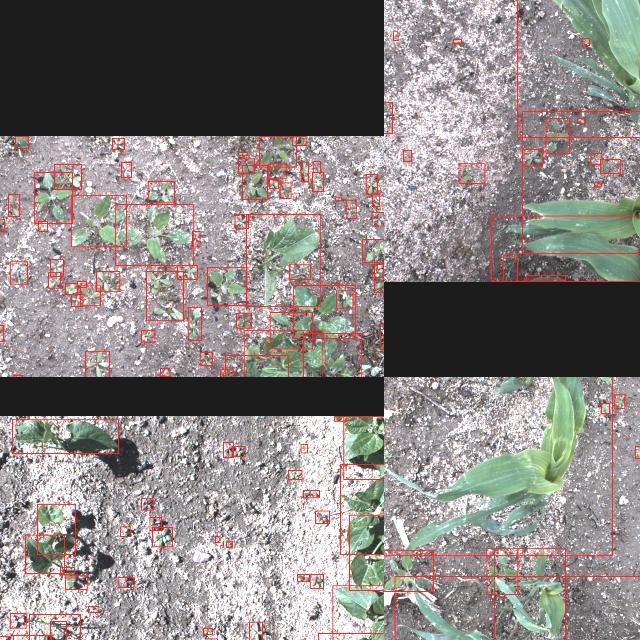crop: (384, 377, 613, 554), (521, 110, 640, 253), (517, 0, 640, 137), (394, 575, 640, 640), (490, 215, 640, 281), (246, 214, 320, 306), (494, 548, 565, 640), (340, 464, 384, 554), (243, 330, 322, 377), (13, 419, 119, 453), (332, 585, 384, 640), (349, 514, 384, 590), (344, 415, 384, 478), (37, 503, 75, 553), (26, 534, 64, 574), (526, 275, 566, 281), (16, 135, 28, 147)
weed: (116, 203, 192, 264), (294, 284, 354, 338), (72, 194, 126, 246), (303, 333, 361, 377), (384, 549, 432, 591), (35, 172, 73, 222), (146, 270, 184, 320), (207, 267, 247, 305), (270, 312, 312, 348), (487, 548, 518, 594), (225, 355, 288, 377), (29, 613, 80, 640), (260, 136, 296, 166), (242, 164, 268, 200), (546, 118, 570, 152), (54, 164, 82, 188), (85, 350, 109, 377), (148, 180, 175, 202), (459, 163, 485, 183), (362, 238, 384, 261), (96, 271, 120, 291), (188, 306, 202, 339), (502, 255, 518, 281), (80, 285, 100, 305), (152, 526, 172, 546), (10, 261, 28, 283), (523, 148, 543, 166), (336, 290, 354, 308), (49, 621, 66, 640), (290, 263, 310, 279), (600, 158, 620, 174), (65, 575, 87, 589), (268, 162, 286, 178), (177, 265, 197, 279), (374, 264, 384, 292), (8, 194, 20, 216), (236, 312, 252, 328), (10, 612, 26, 628), (50, 258, 64, 276), (384, 101, 392, 132), (249, 621, 262, 640), (366, 173, 378, 193), (238, 158, 254, 172), (312, 172, 324, 190), (235, 213, 249, 227), (310, 574, 324, 588), (48, 272, 60, 288), (371, 211, 384, 225), (346, 199, 356, 217), (141, 330, 155, 342), (200, 351, 212, 365), (150, 516, 162, 530), (315, 510, 329, 522), (301, 161, 309, 181), (280, 182, 290, 198), (118, 577, 134, 587), (113, 137, 125, 149), (590, 152, 602, 164), (121, 162, 131, 176), (223, 442, 233, 456), (288, 469, 302, 479), (615, 393, 625, 407), (372, 264, 383, 276), (141, 498, 153, 509), (192, 230, 200, 246), (66, 282, 76, 294), (72, 294, 82, 306), (232, 446, 244, 456), (220, 369, 234, 377), (292, 136, 306, 144), (60, 566, 74, 574), (303, 489, 319, 496), (380, 323, 384, 349), (372, 192, 380, 205), (38, 220, 48, 230), (121, 526, 131, 536), (297, 573, 309, 581), (160, 368, 170, 376), (270, 178, 278, 188), (403, 150, 411, 160), (601, 402, 609, 412), (314, 160, 320, 172), (300, 443, 308, 452), (77, 281, 87, 287), (89, 606, 99, 612), (635, 445, 640, 457), (582, 37, 590, 44), (0, 217, 4, 230), (204, 628, 212, 634), (334, 416, 346, 420), (0, 635, 9, 640), (452, 39, 462, 43), (394, 30, 398, 40), (594, 182, 602, 186), (578, 118, 584, 122), (216, 536, 220, 542), (226, 542, 232, 546), (238, 152, 248, 154), (335, 197, 341, 199)
